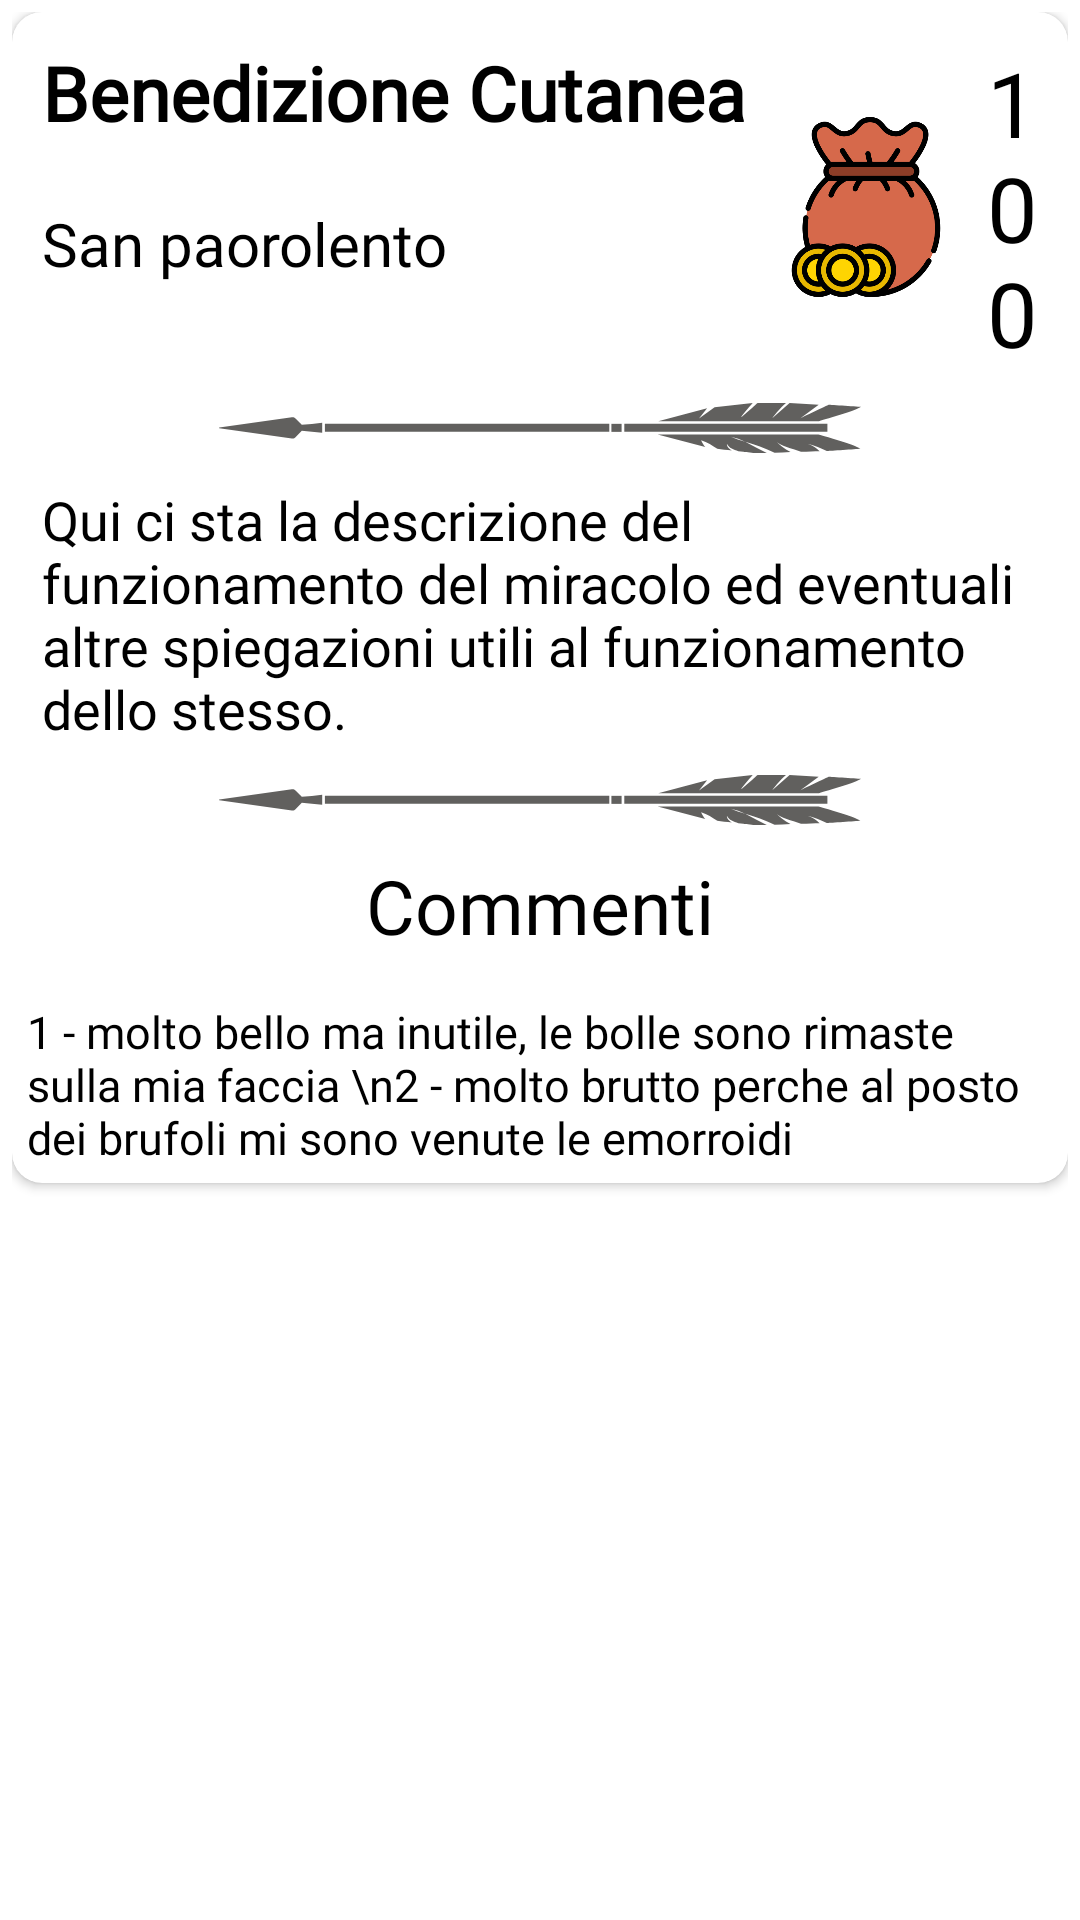

Icons on this 1080 × 1920 Android screen, each with the point to tap as (x=x, y=y):
saccobaiocchi: (x=866, y=207)
